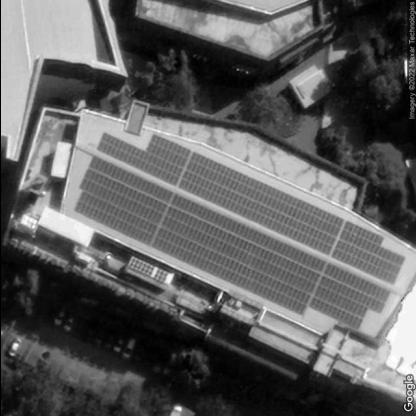solar-pv-panel: (74, 131, 405, 326)
